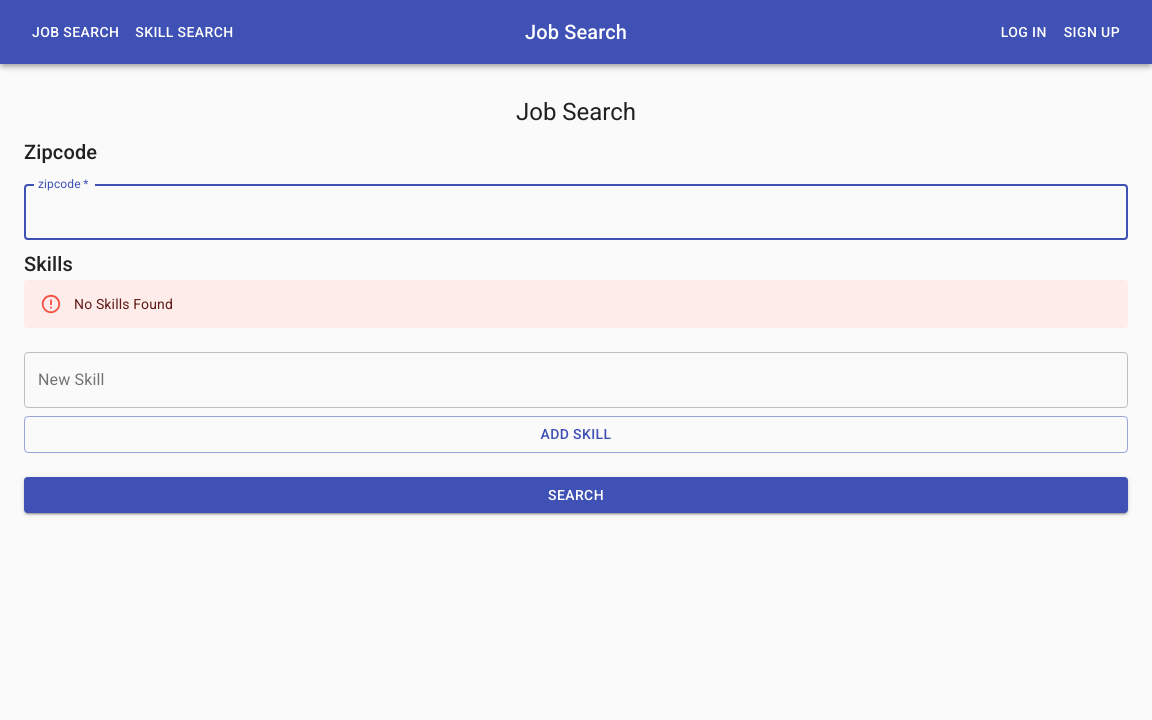
Test: Job Search › Job Results 401- FAILURE
Expected: the heading with id "navBarTitle" reads "Job Search", [525, 20, 627, 44]
Type "12345" into the field with id "zipcode" at (576, 212), box [24, 184, 1128, 240]
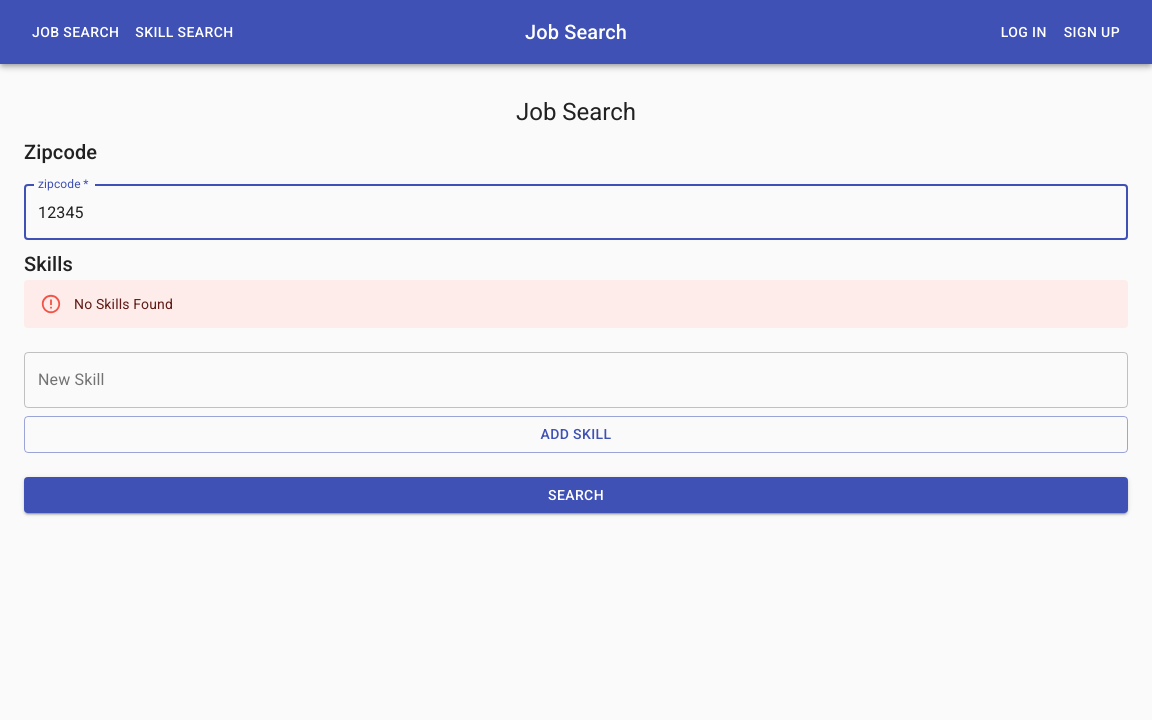
Click the button with id "submit" at (576, 496), box [24, 477, 1128, 514]
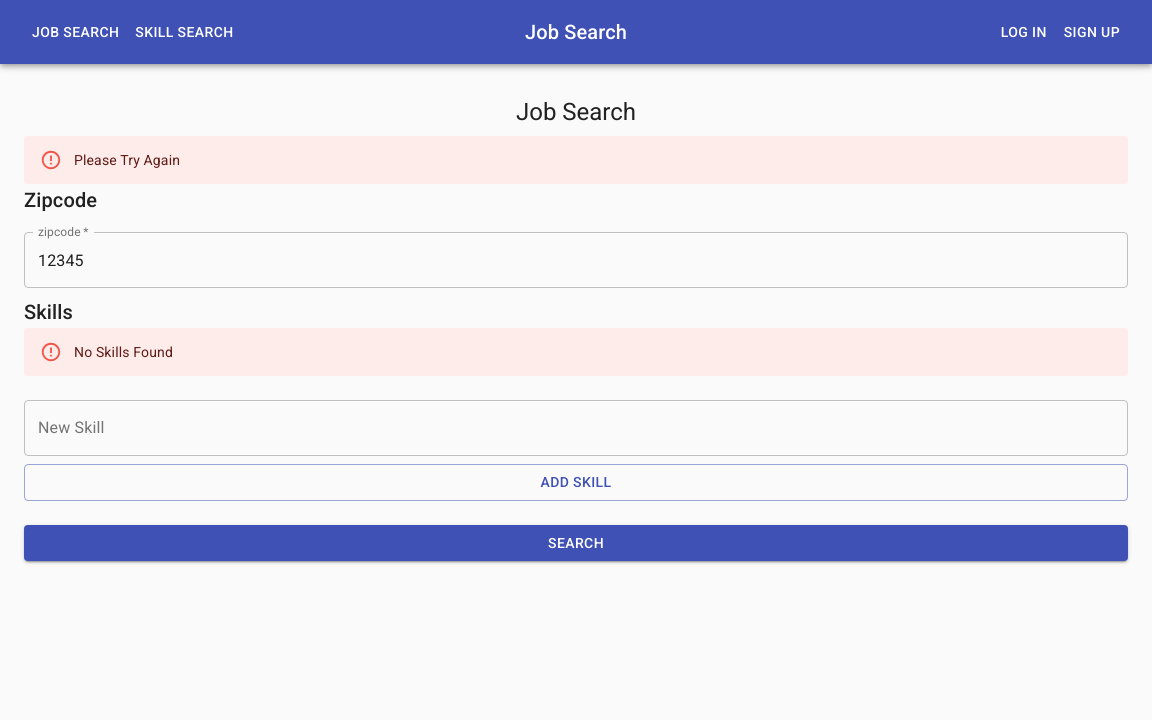
Expected: the text "Please Try Again" is shown, [74, 152, 180, 168]
